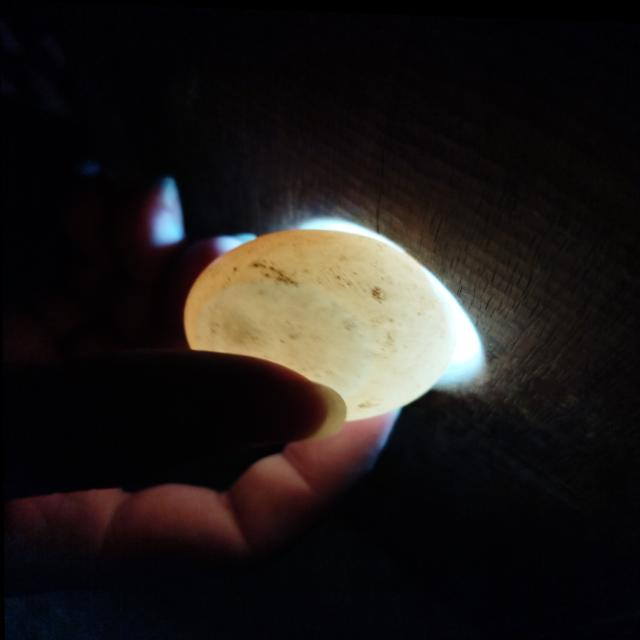Camara de Ar: (351, 266, 640, 382), (198, 282, 366, 380)
